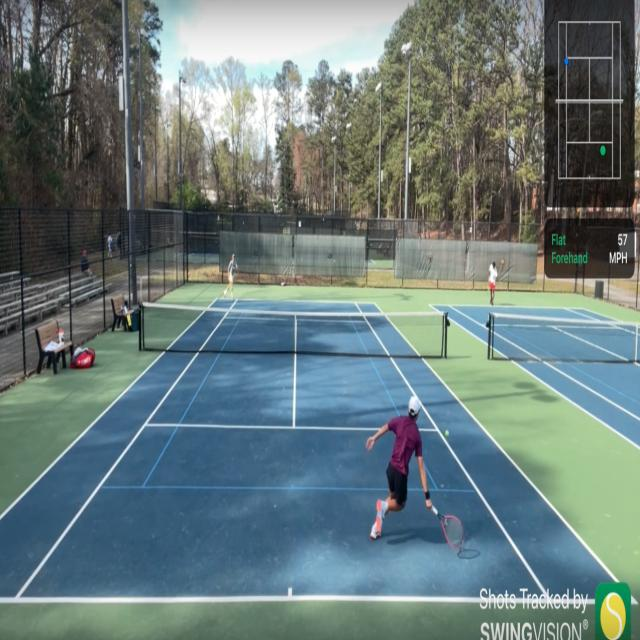ball: (445, 429, 450, 437)
